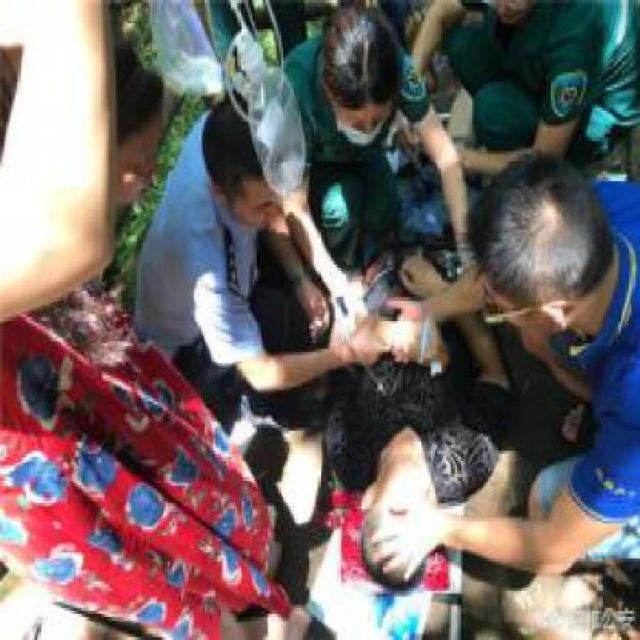fall: (308, 207, 521, 631)
